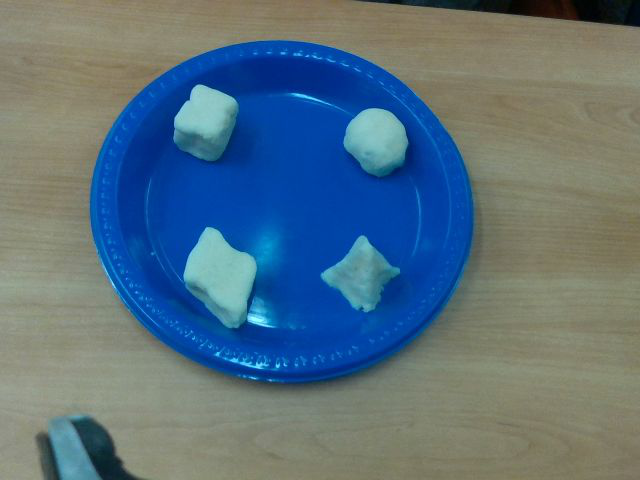mashed_potato: (183, 227, 256, 329), (322, 236, 400, 310), (174, 84, 237, 161), (343, 108, 408, 175)
